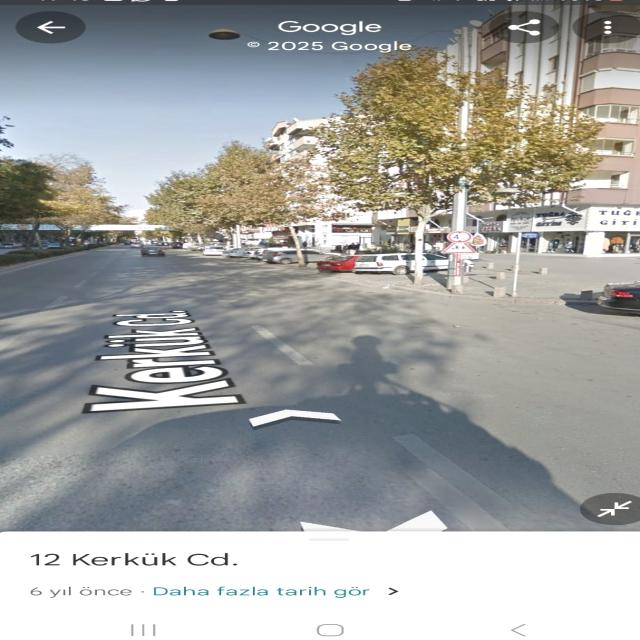okul_gecidi: (442, 242, 476, 253)
